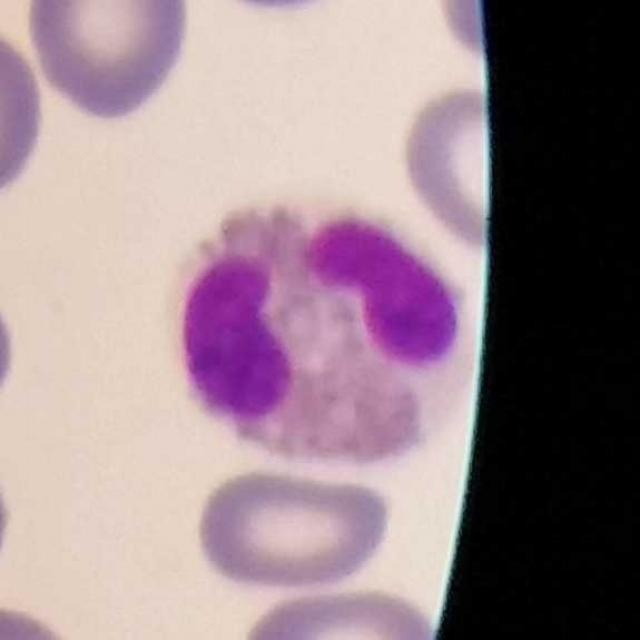Eosinophil: (159, 193, 490, 482)
RBC: (189, 462, 400, 597), (21, 0, 199, 126), (394, 80, 486, 261), (236, 580, 442, 640), (0, 13, 51, 214), (430, 0, 485, 88), (0, 597, 90, 640), (229, 0, 336, 24), (0, 295, 20, 397)
